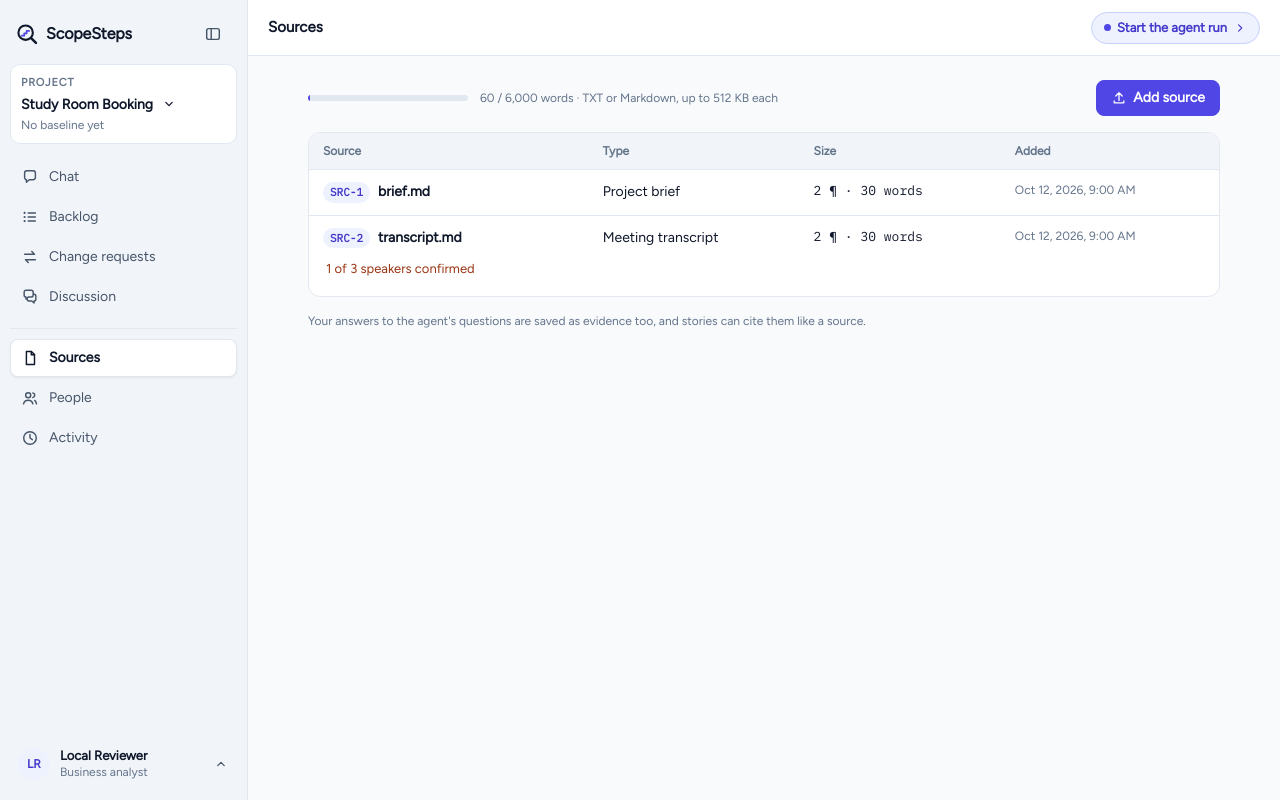
Test: Who's who › shows an automatically linked speaker as linked, with their meeting role, and lets it change
Click the button with aria-label "Who's who in SRC-2 transcript.md".
click(400, 269)  # box [315, 254, 486, 284]
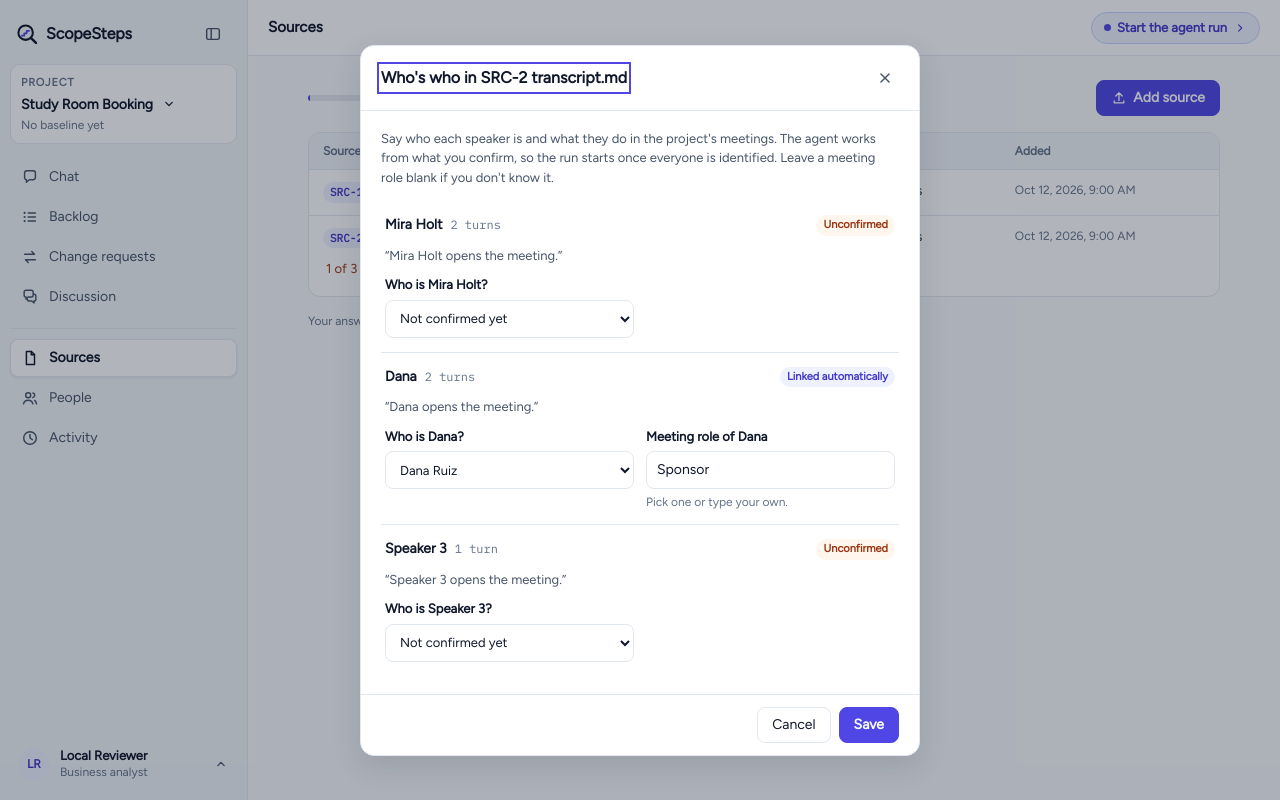
Result: the text "Linked automatically" is shown at [780, 366, 895, 387]
Result: the dropdown labelled "Who is Dana?" shows "Dana Ruiz"
Result: the field labelled "Meeting role of Dana" holds "Sponsor" at [646, 451, 895, 489]
Select "Not a person" in the dropdown labelled "Who is Dana?" at [510, 470], box [385, 451, 634, 489]
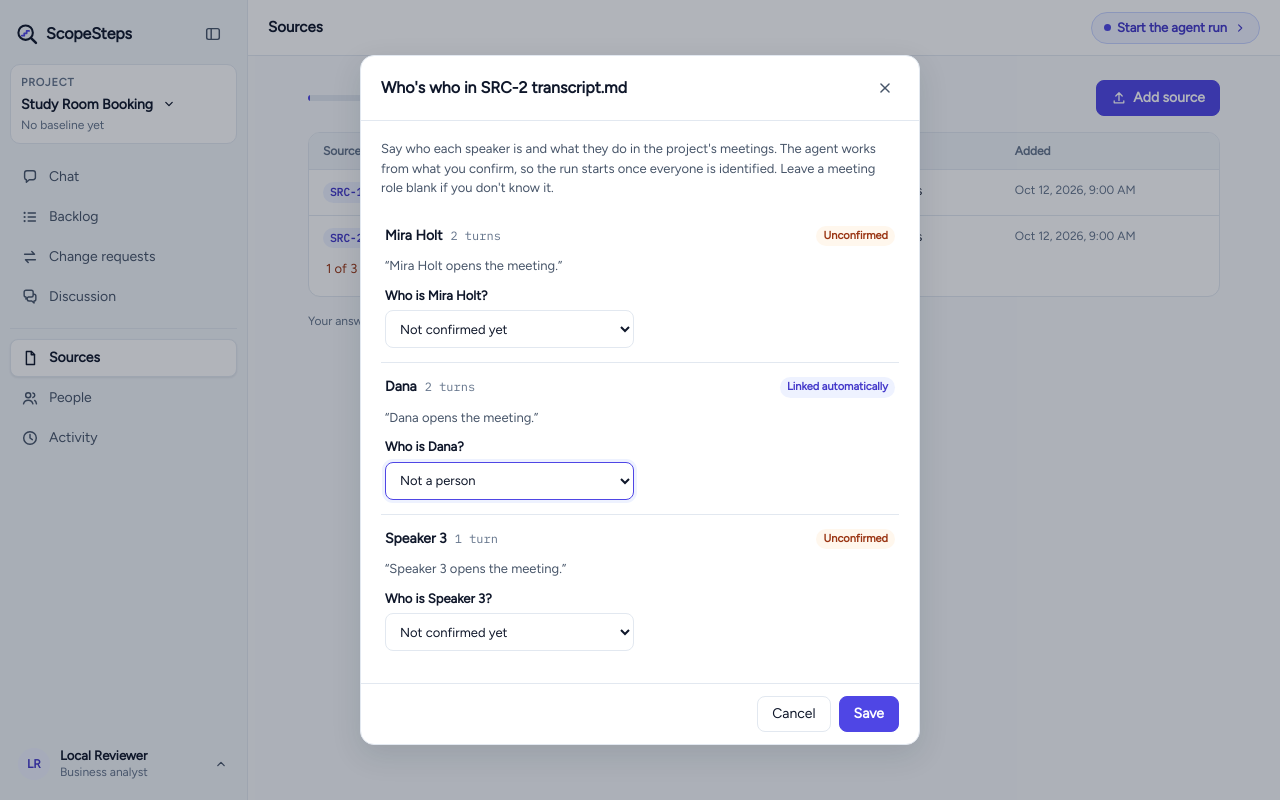
Result: the label "Meeting role of Dana" is gone
